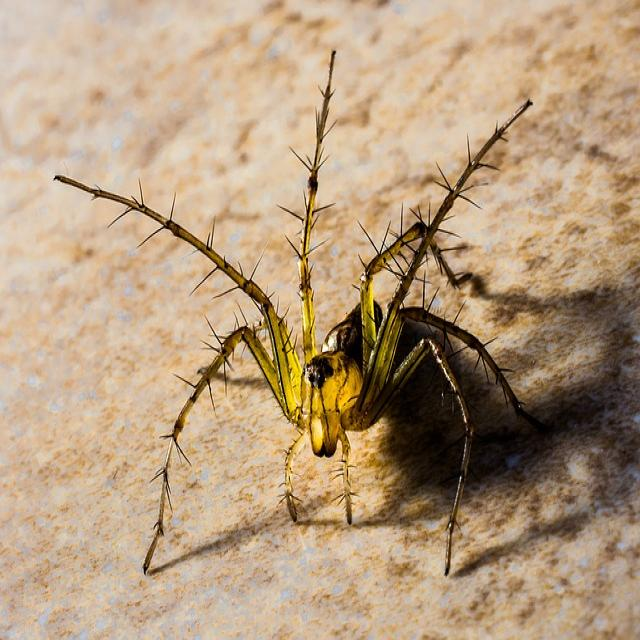spyder: (55, 51, 542, 573)
